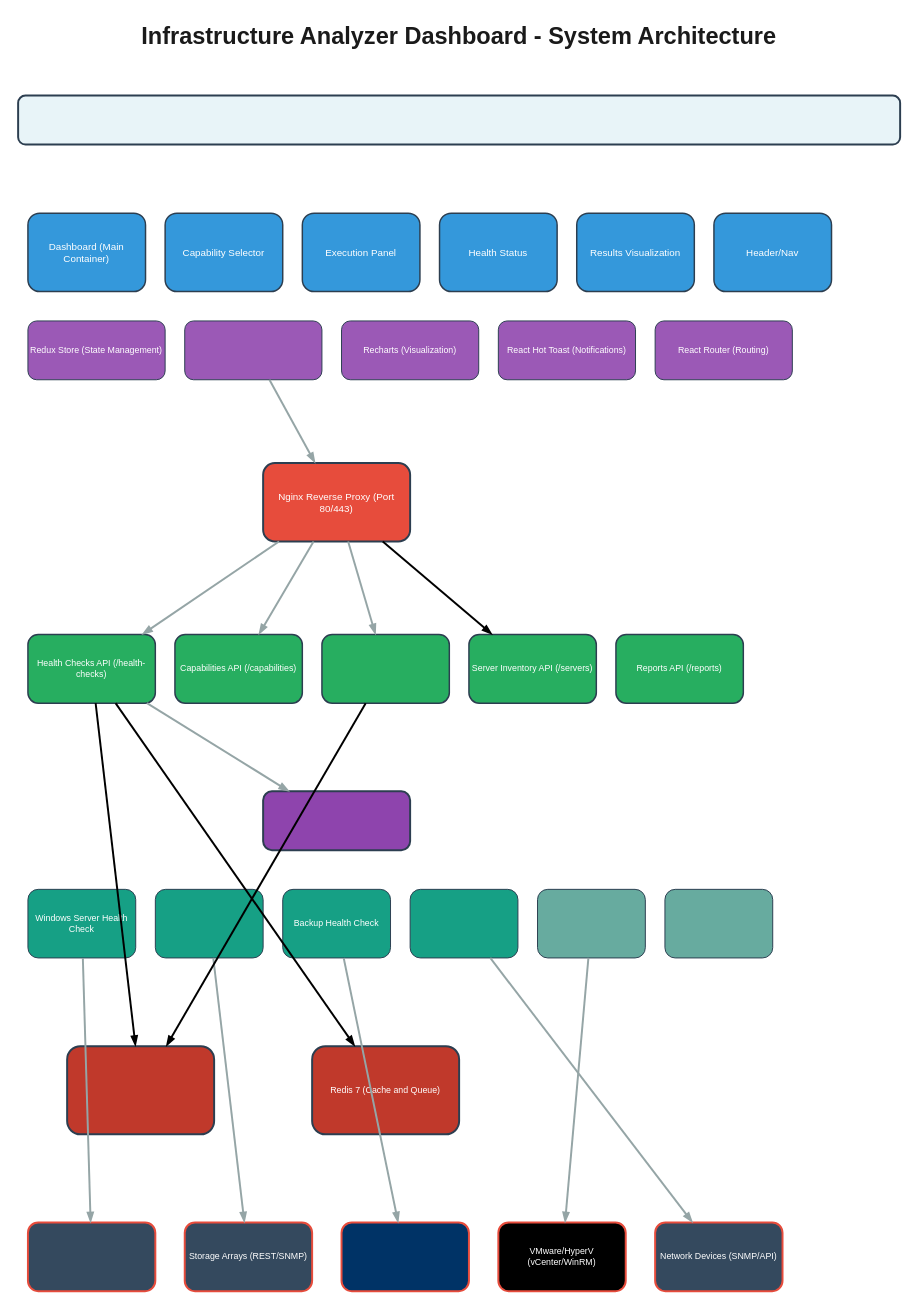
Some shapes in this 917 by 1308 pixel diagram are drawn without their labels. Here are the shapes that lost their labels. From the top down, the box of each, then its label:
(17, 94, 901, 145): Web Browser / Client
(184, 320, 322, 380): Axios Client (HTTP Communication)
(321, 633, 450, 703): Configuration API (/configurations)
(262, 790, 411, 851): Base Health Check (Abstract Class)
(154, 888, 263, 958): Storage Health Check
(409, 888, 518, 958): Network Health Check
(537, 888, 645, 958): Virtualization Health Check
(664, 888, 773, 958): Active Directory Health Check
(66, 1045, 215, 1135): PostgreSQL 15 (Primary Database)
(26, 1221, 156, 1292): Windows Servers (WinRM)
(340, 1221, 469, 1292): Backup Systems (NetBackup/Exec)
